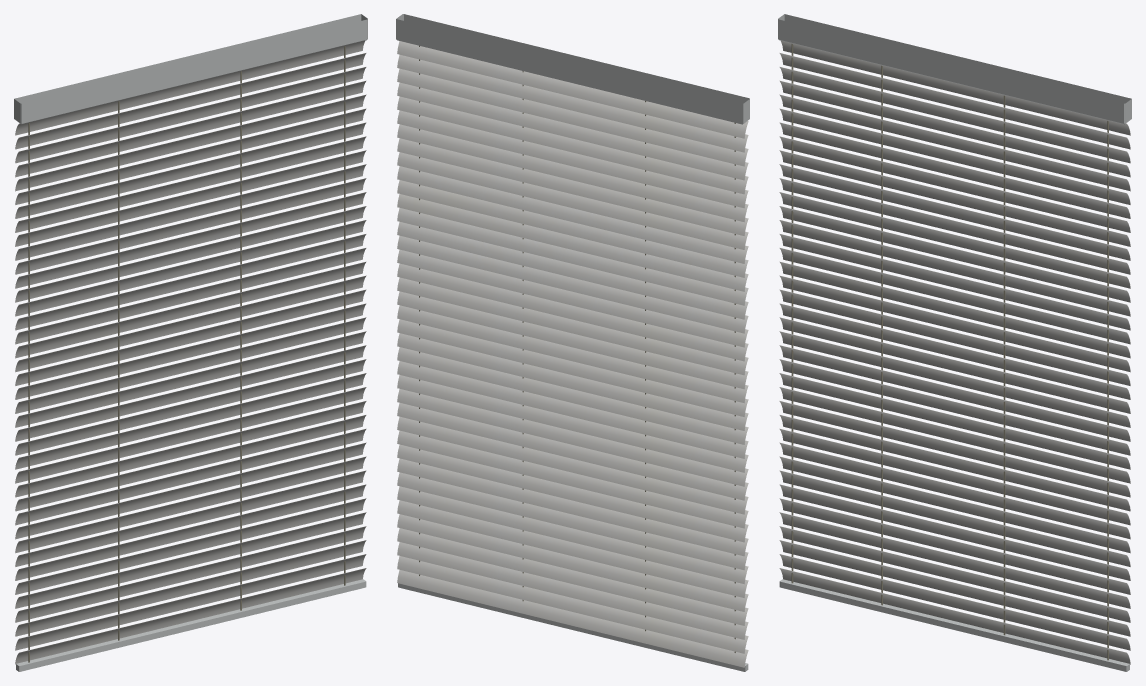
The model's file is SM_Shades_Closed.fbx.
The picture shows the model from 3 angles, left to right: view 1: azimuth 30°, elevation 25°; view 2: azimuth 150°, elevation 25°; view 3: azimuth 330°, elevation 25°; orthographic projection.
Visible parts, largest first — view 1: SM_Shades_Closed; view 2: SM_Shades_Closed; view 3: SM_Shades_Closed.
Part boxes in pixels (x1=…): SM_Shades_Closed: x1=14, y1=14, x2=367, y2=671; SM_Shades_Closed: x1=396, y1=14, x2=749, y2=671; SM_Shades_Closed: x1=778, y1=14, x2=1131, y2=671.
Size of the model in its own units: 114 by 4 by 179.
1 material, 1 textured.
